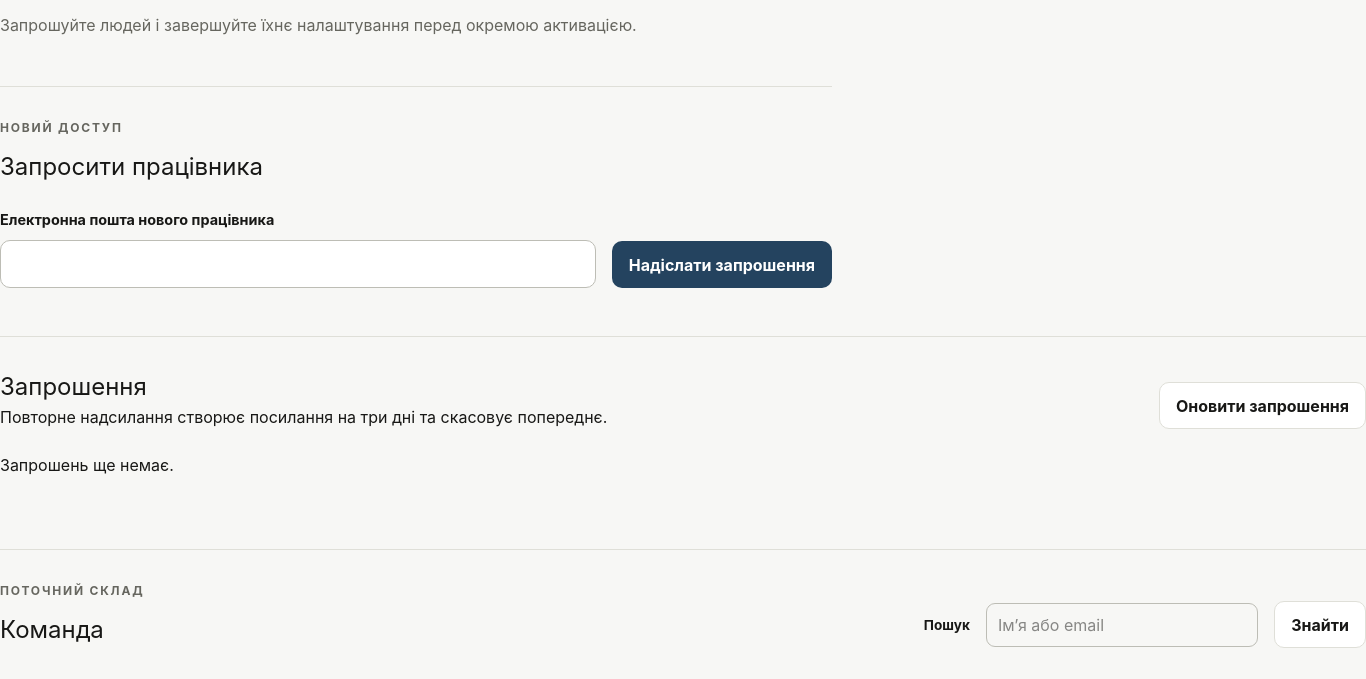
Scenario: Admin Employee flow › distinguishes an empty search from an empty team
Type "missing" into the search field labelled "Пошук" at (1122,625), box 986,603 -> 1258,647
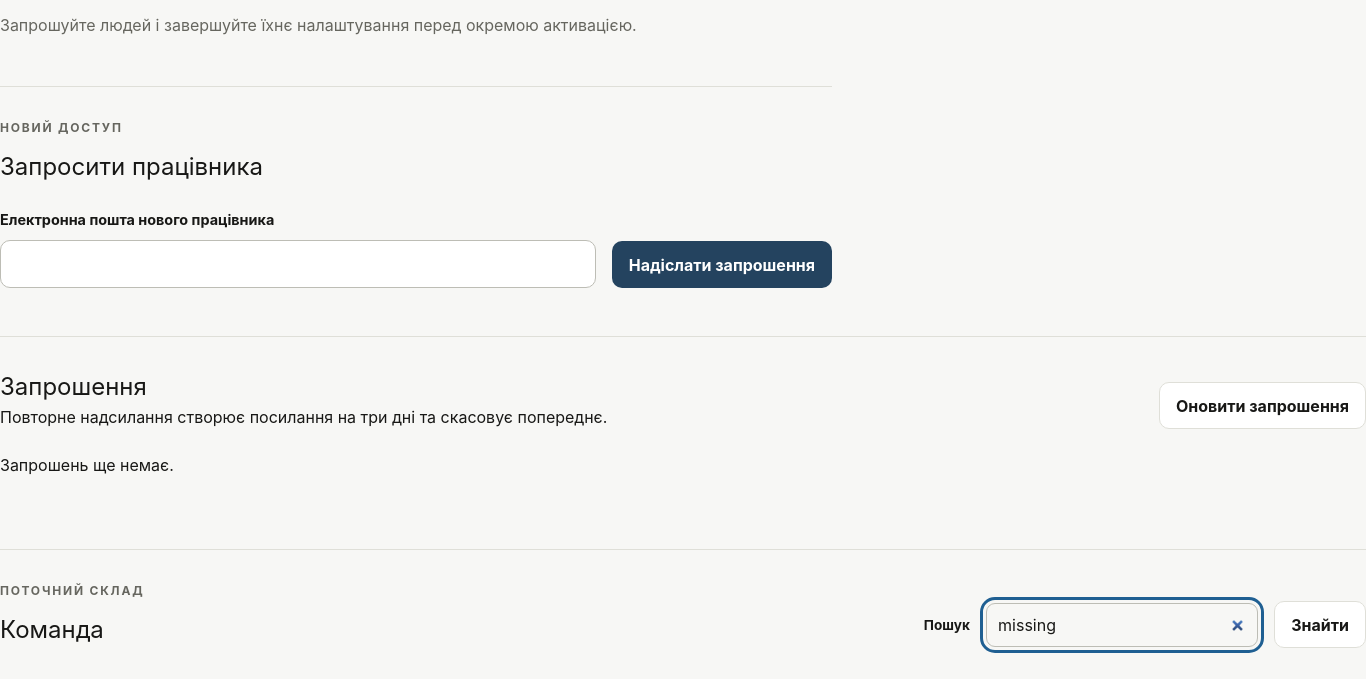
Click the button "Знайти" at (1320,625), box 1274,601 -> 1365,648
(page scrolled)
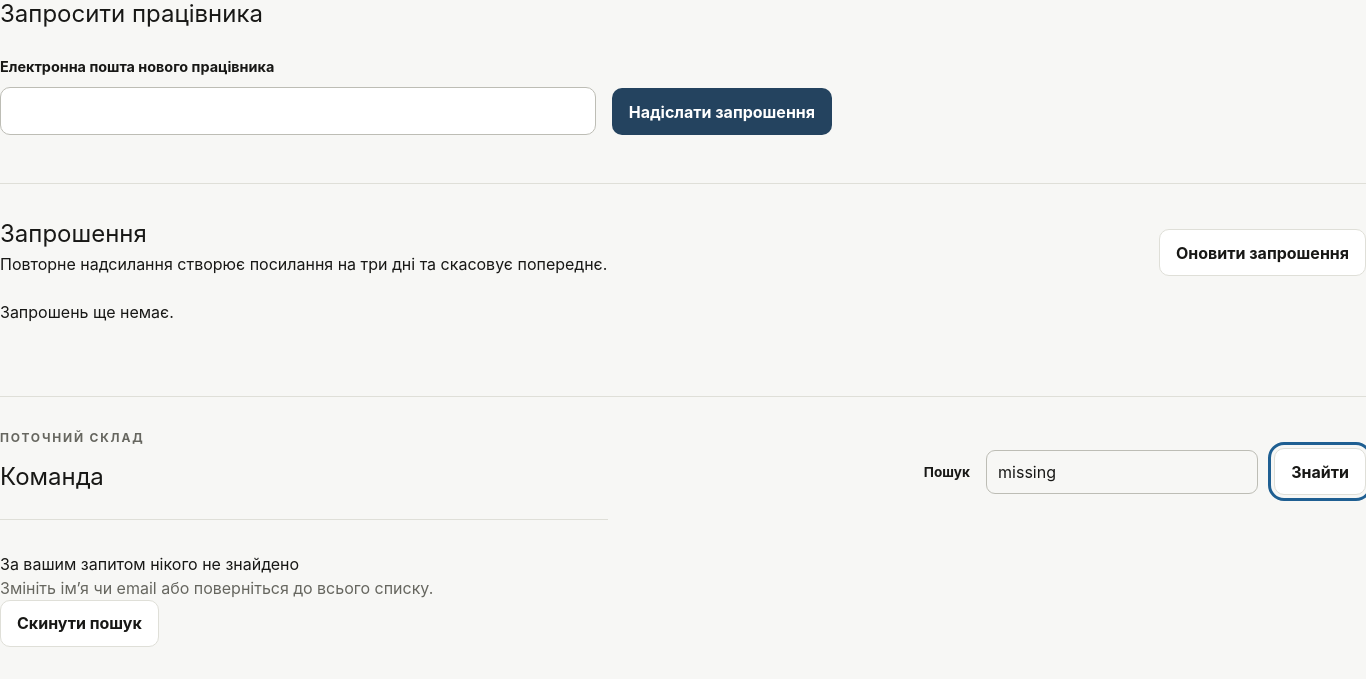
expect the heading "За вашим запитом нікого не знайдено" is shown: met, box 0,554 -> 299,574
Click the button "Скинути пошук" at (79,624), box 0,600 -> 159,647
(page scrolled)
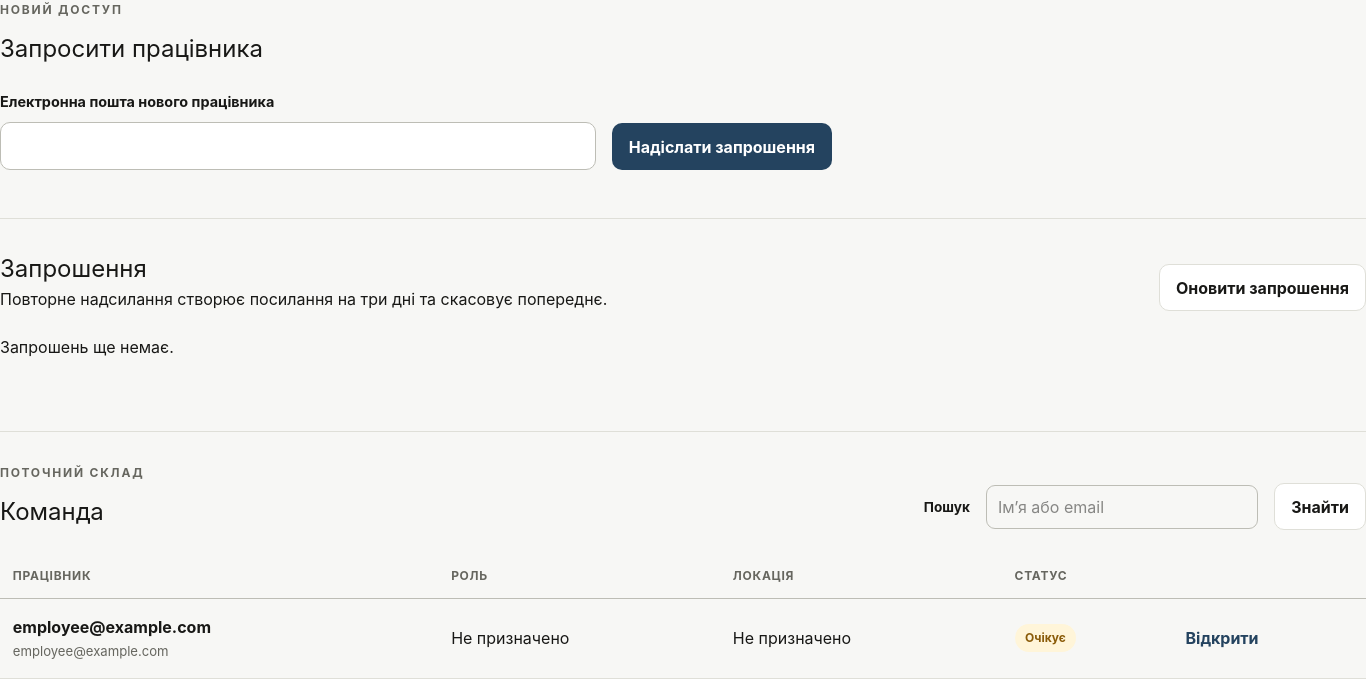
expect the table named "Працівники" is shown: met, box 0,554 -> 1365,678
expect the search field is empty: met, box 986,485 -> 1258,529
